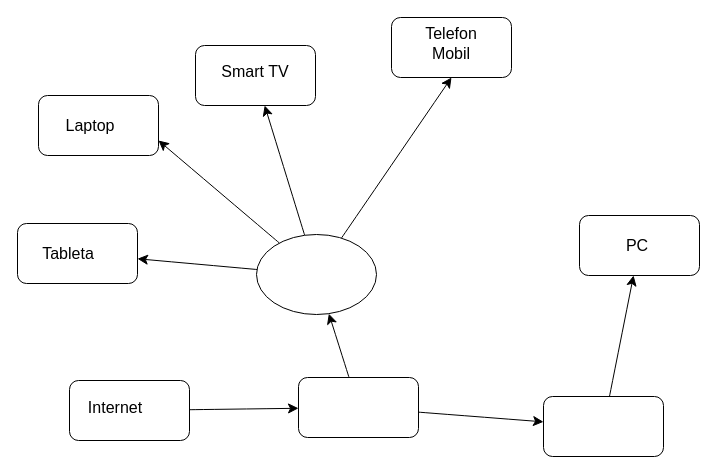
Image size: 717x474. Some labels were removed from this diagram. The shapes that lost their labels are listed below. From the top down, each one's centre as x and y in pixels, then its label:
At point 316,274: "Wireless".
At point 358,407: "Router".
At point 603,426: "Ethernet".
